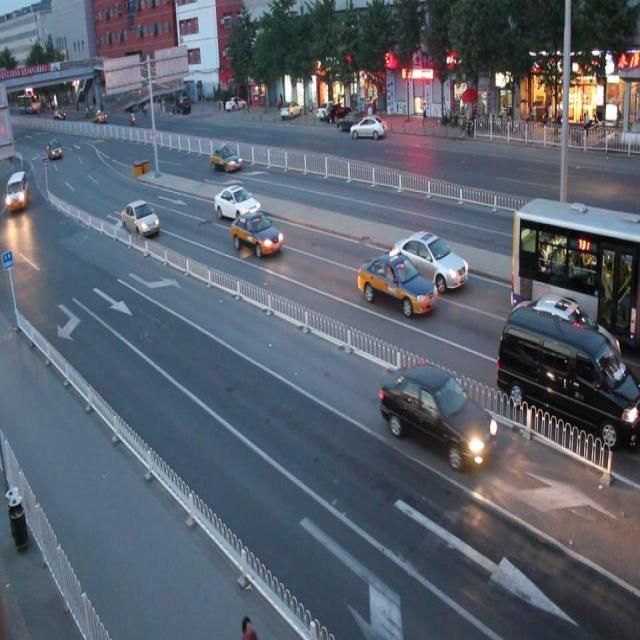car: (380, 356, 496, 470), (509, 295, 618, 388), (358, 254, 438, 317), (391, 228, 468, 292), (231, 210, 283, 259), (214, 185, 262, 220), (122, 198, 160, 238), (210, 142, 240, 173)
truck: (496, 300, 640, 446)
van: (510, 193, 640, 350)
